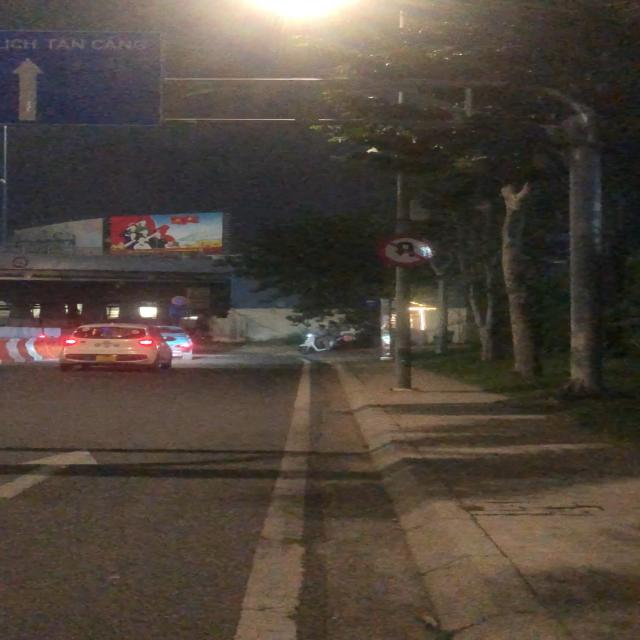Bien bao cam quay dau xe: (376, 229, 434, 270)
